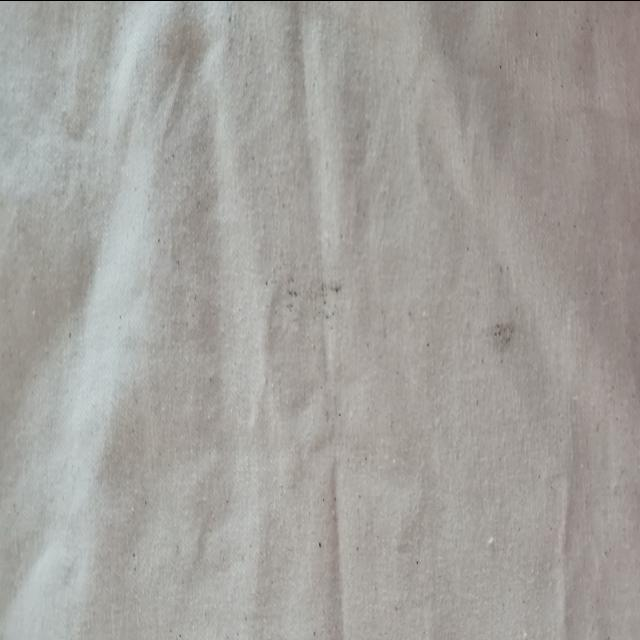taaaches: (276, 263, 350, 327), (481, 302, 533, 378)
